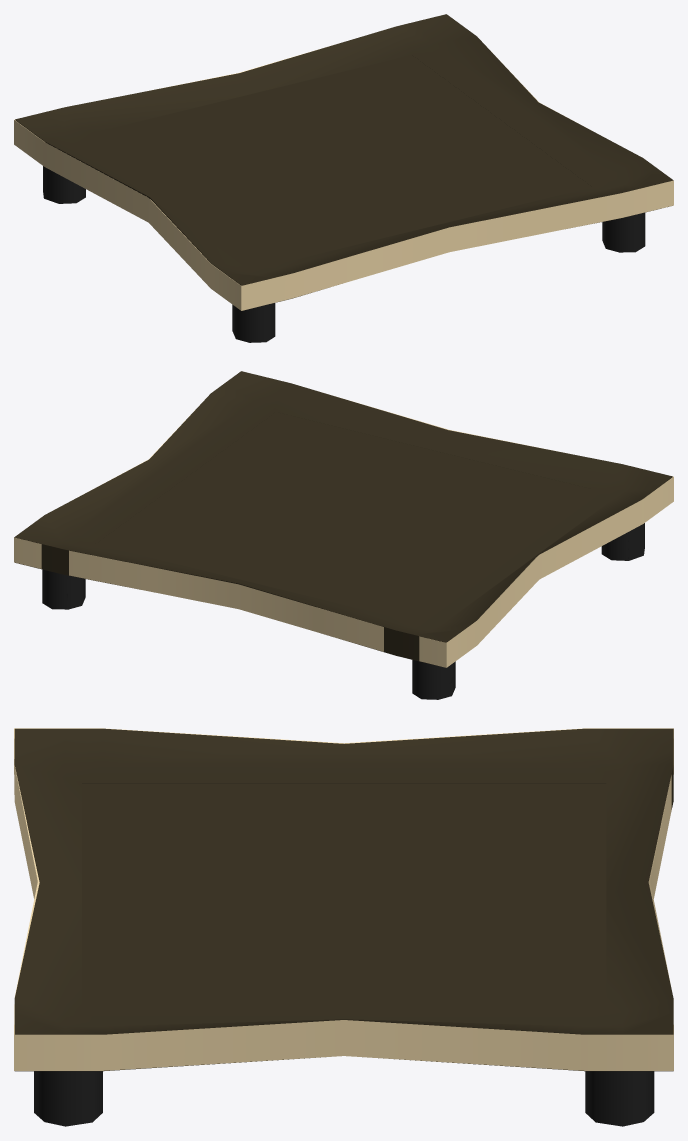
The model's file is Tray.fbx.
The picture shows the model from 3 angles, top to bottom: view 1: azimuth 30°, elevation 25°; view 2: azimuth 150°, elevation 25°; view 3: azimuth 270°, elevation 25°; orthographic projection. The views are drawn at different scales.
Parts seen in each view (by area): view 1: Box+Tray001, LED001; view 2: Box+Tray001, LED001; view 3: Box+Tray001, LED001.
Boxes of the visible parts, <box> form: Box+Tray001: <box>15,14,673,342</box>; LED001: <box>14,49,673,310</box>; Box+Tray001: <box>14,371,672,699</box>; LED001: <box>14,398,673,667</box>; Box+Tray001: <box>14,728,673,1126</box>; LED001: <box>14,728,673,1070</box>.
Bounding box in the file's own units: 0.5868 × 0.0896 × 0.5342.
Materials: 1 (1 with a texture image).
